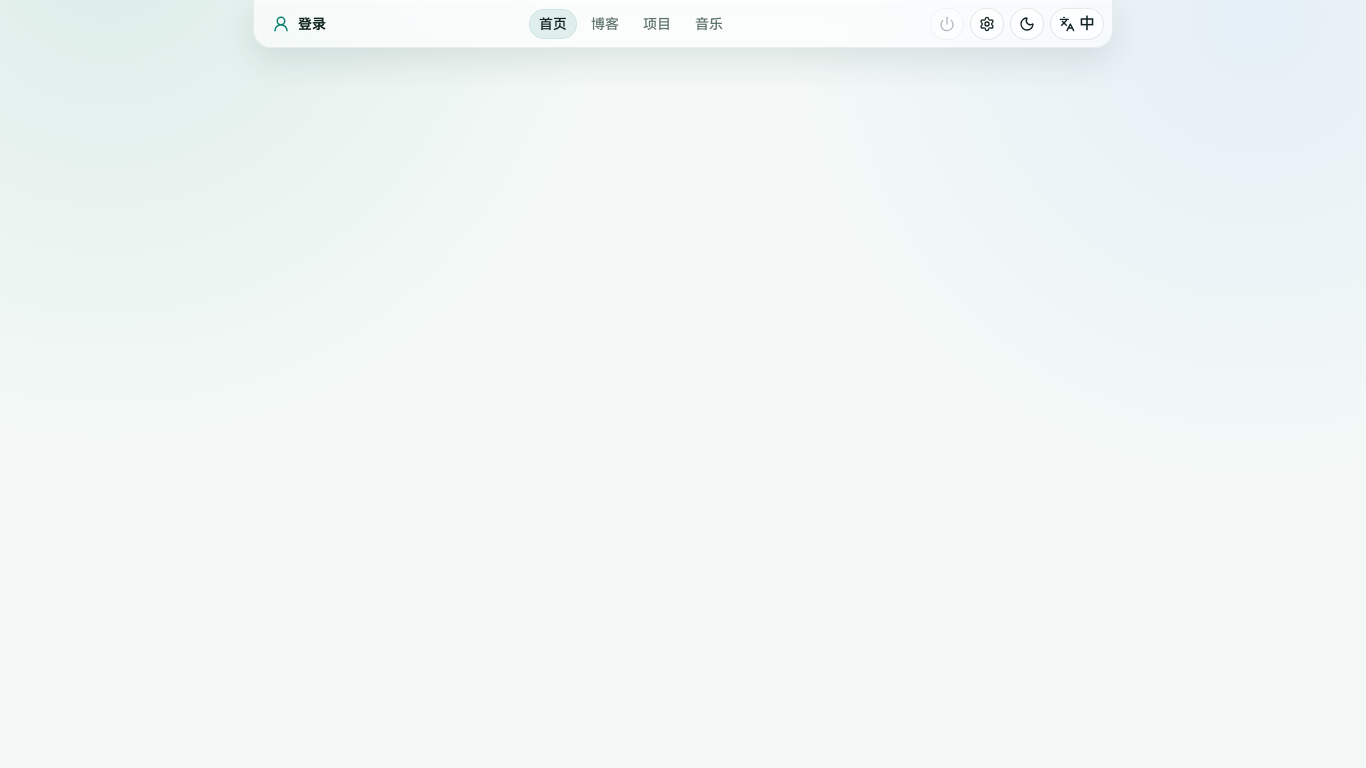
Test: TopNavigation settings popover › closes settings with Escape and outside pointer input
This screenshot has width=1366, height=768.
Click the button named "显示设置" at (987, 24), box [970,8,1004,40]
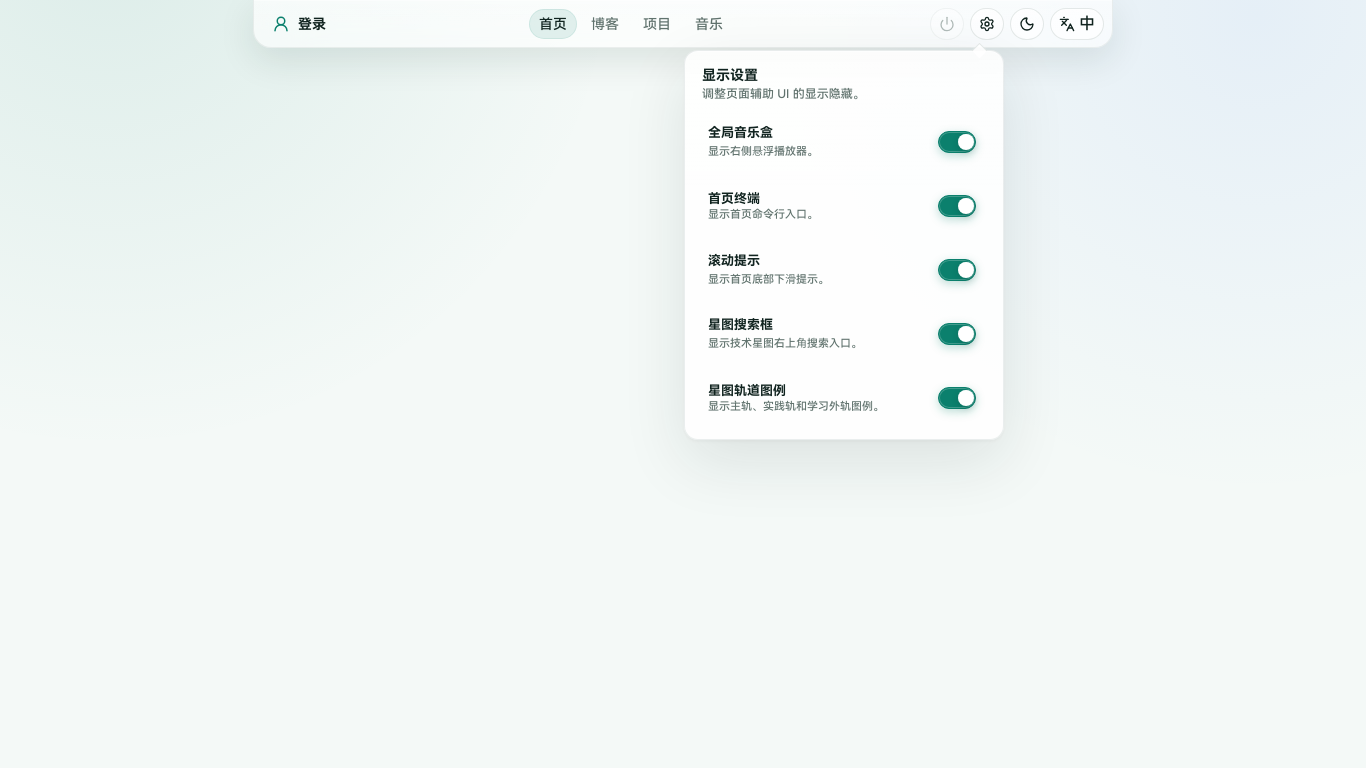
Press Escape
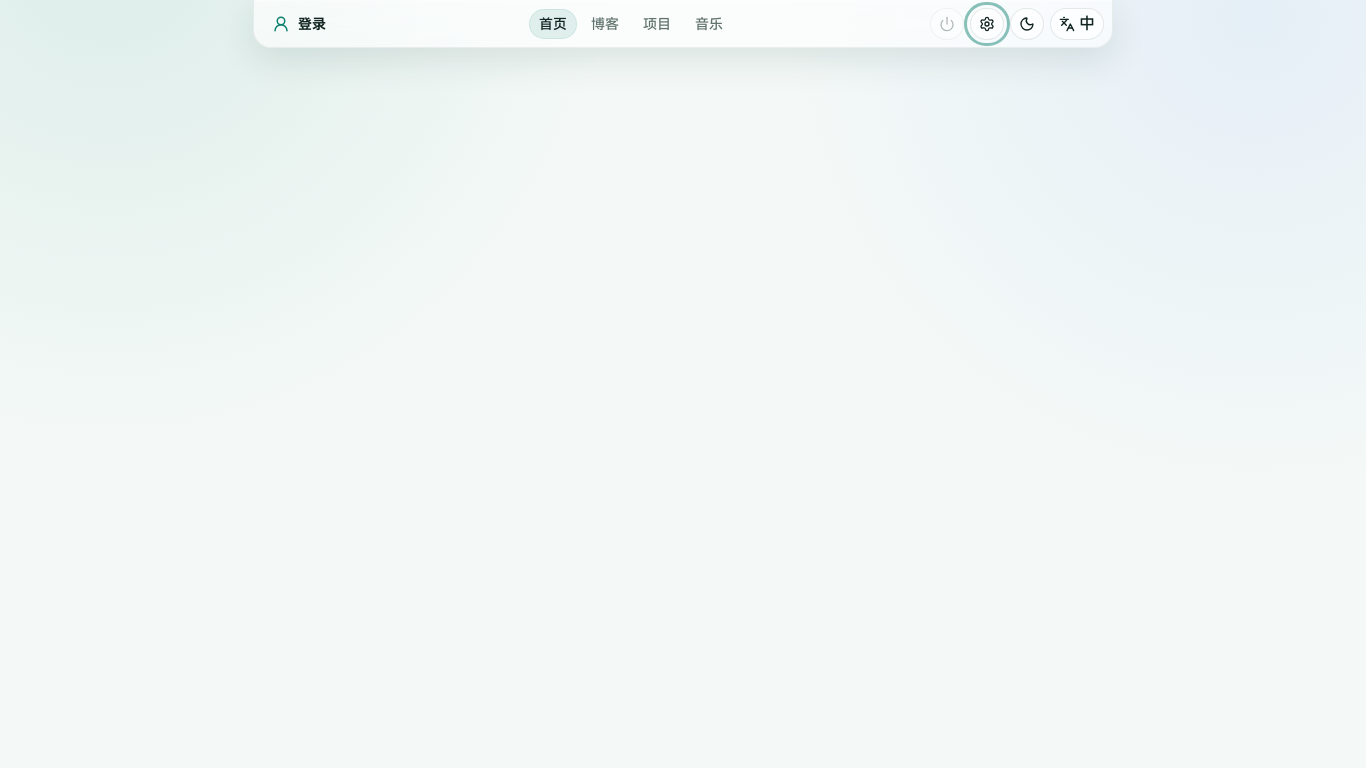
Result: the text "显示设置" is gone
Click the button named "显示设置" at (987, 24), box [970,8,1004,40]
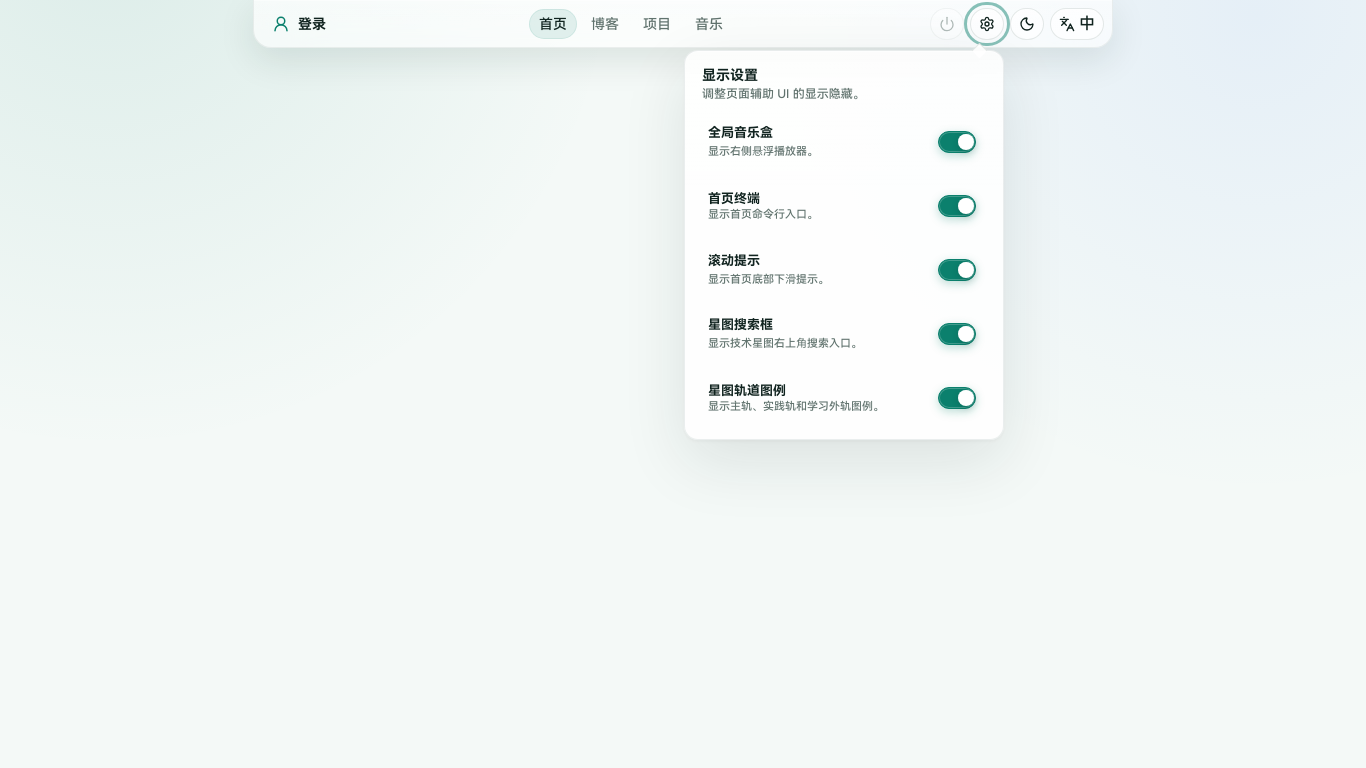
Result: the dialog "显示设置" is shown at [684,50,1004,440]
Press the mouse on the element that starts with "显示设置" at (683, 384), box [0,0,1365,767]
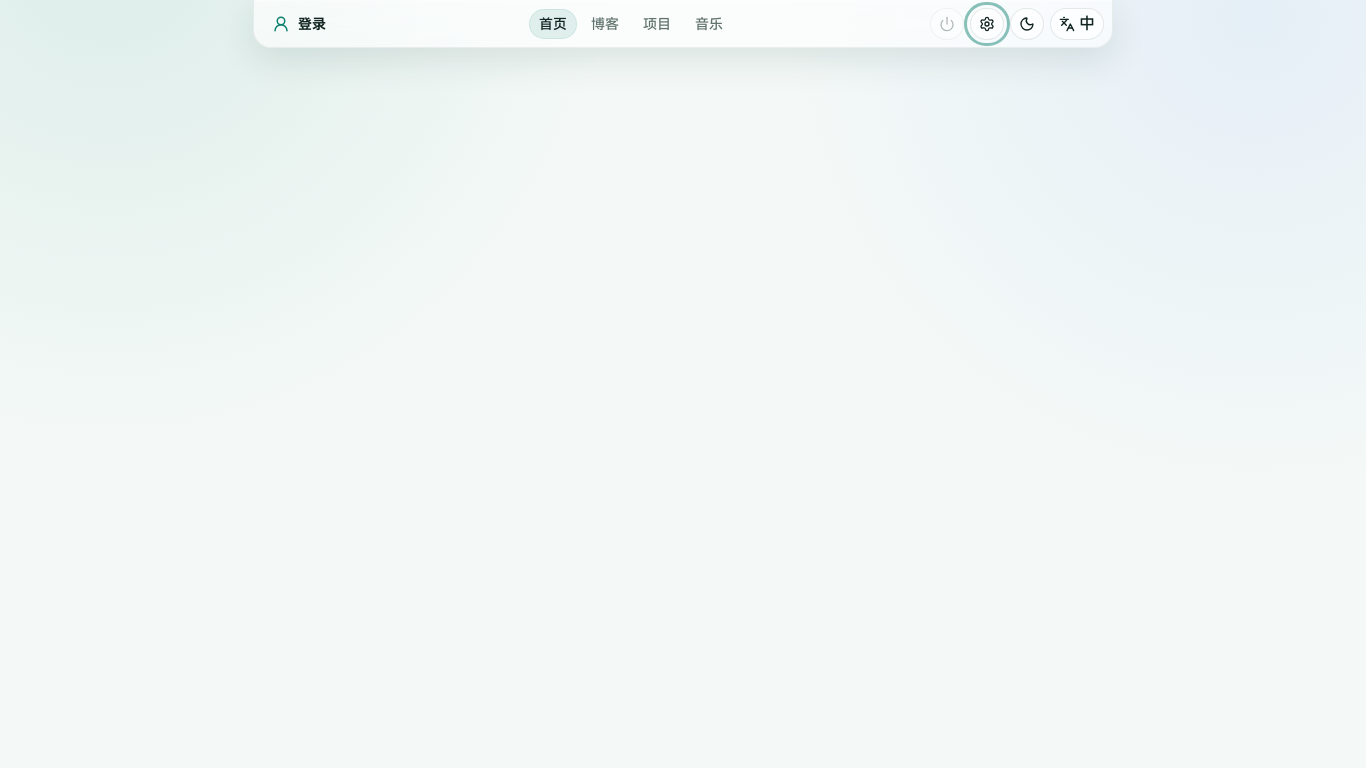
Result: the text "显示设置" is gone
